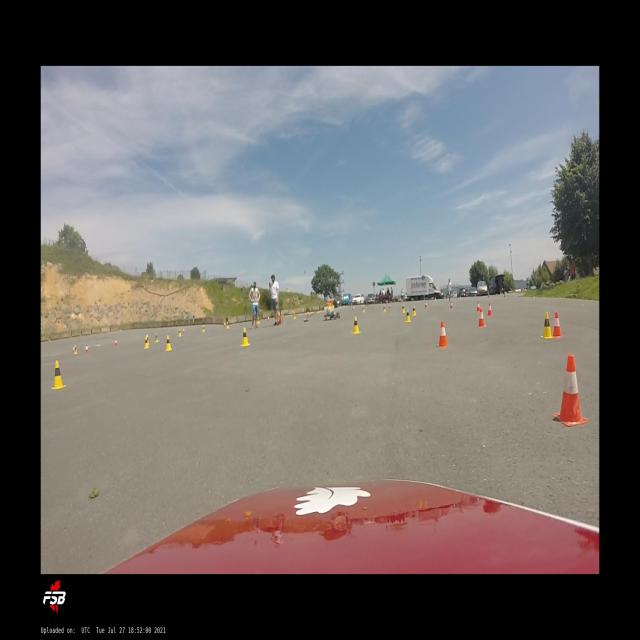orange_cone: (554, 354, 588, 426), (436, 321, 449, 348), (551, 311, 563, 337), (477, 308, 486, 328), (487, 302, 492, 316), (85, 344, 90, 356), (476, 301, 481, 312), (73, 345, 78, 355), (449, 301, 453, 309), (115, 338, 118, 348), (388, 302, 392, 308), (182, 326, 185, 334), (424, 300, 427, 308), (267, 315, 270, 321), (353, 305, 355, 311)
yellow_cone: (51, 360, 68, 390), (540, 312, 554, 339), (241, 327, 251, 346), (353, 316, 361, 334), (165, 335, 173, 351), (404, 310, 411, 322), (144, 336, 150, 349), (155, 332, 160, 343), (411, 305, 416, 316), (73, 345, 78, 355), (401, 304, 405, 313), (178, 329, 182, 337), (202, 324, 206, 332), (362, 306, 366, 313), (383, 304, 386, 313), (227, 322, 230, 328), (293, 313, 296, 319), (258, 317, 260, 325), (307, 311, 309, 317)
